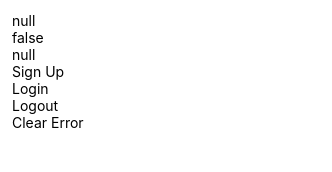
Test: AuthContext › surfaces a generic friendly message on network failure
This screenshot has width=332, height=172.
Click the button "Login" at (48, 88), box [12,80,84,97]
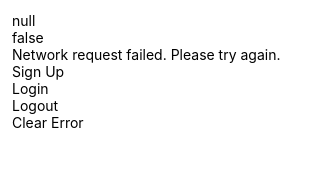
Expected: the text with test id "error" reads "Network request failed. Please try again.", [12,46,280,63]
